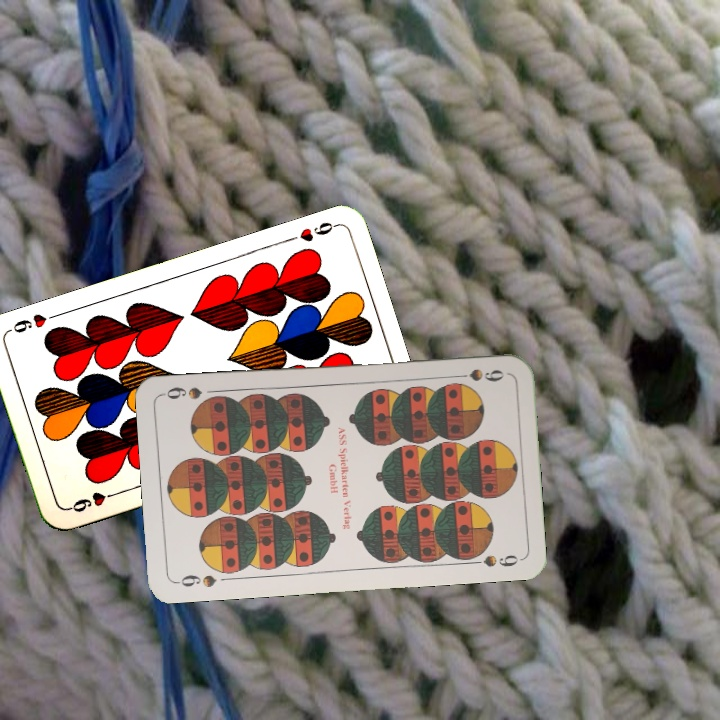H9: (63, 487, 121, 515), (295, 218, 340, 245)
S9: (449, 364, 506, 384), (172, 570, 219, 590)
